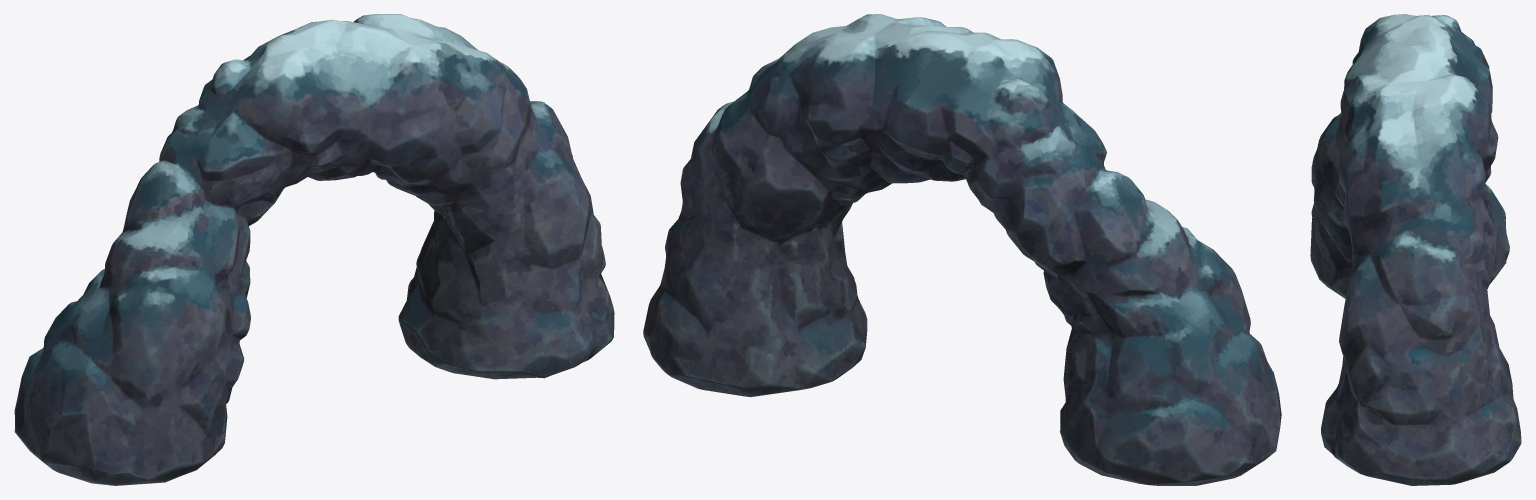
The model's file is Rock_3.fbx.
3 renders of one model, left to right at view 1: azimuth 30°, elevation 25°; view 2: azimuth 150°, elevation 25°; view 3: azimuth 270°, elevation 25°, orthographic. The views are drawn at different scales.
Visible parts, largest first — view 1: Rock_3; view 2: Rock_3; view 3: Rock_3.
Boxes of the visible parts, box(x1,y1,x2,y2) form: Rock_3: box(14, 14, 614, 485); Rock_3: box(643, 14, 1281, 485); Rock_3: box(1310, 14, 1521, 485).
Size of the model in its own units: 629 by 384 by 214.
